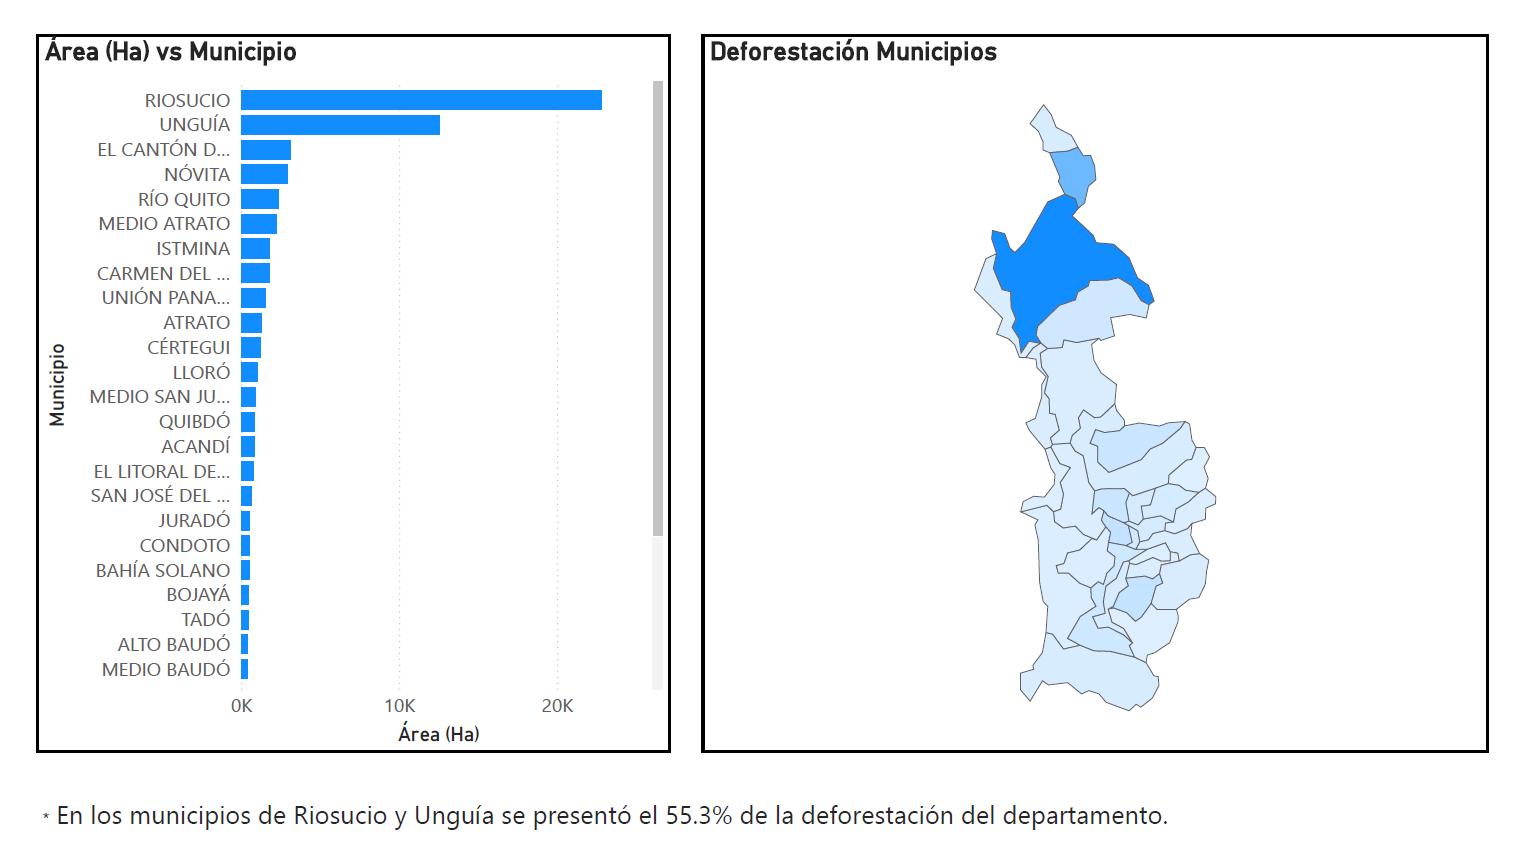

What the dashboard file says about the page in this screenshot:
{"tool":"powerbi","page":{"name":"Deforestación Municipios","canvas":[1280,720],"ordinal":2},"visuals":[{"type":"shapeMap","title":"Deforestación Municipios","fields":{"Category":["AREAS_DEFORESTADAS_CHOCO_20250710.MUNICIPIO"],"Value":["Sum(AREAS_DEFORESTADAS_CHOCO_20250710.AREA_Ha)"]},"box":[598.3,32.9,658.7,602.4],"z":0},{"type":"clusteredBarChart","title":"Área (Ha) vs Municipio","fields":{"Category":["AREAS_DEFORESTADAS_CHOCO_20250710.MUNICIPIO"],"Y":["Sum(AREAS_DEFORESTADAS_CHOCO_20250710.AREA_Ha)"]},"box":[41.2,32.9,531,602.4],"z":1},{"type":"textbox","box":[41.2,666.9,1239.1,39.8],"z":2}]}

Visuals, with their boxes in screenshot pixels (x1, y1, x2, y2), scaled from the page's 1280x720 canvas onto the 1514x848 screenshot:
"Deforestación Municipios" shapeMap: bbox=(708, 39, 1487, 748)
"Área (Ha) vs Municipio" clusteredBarChart: bbox=(49, 39, 677, 748)
textbox: bbox=(49, 785, 1513, 832)
